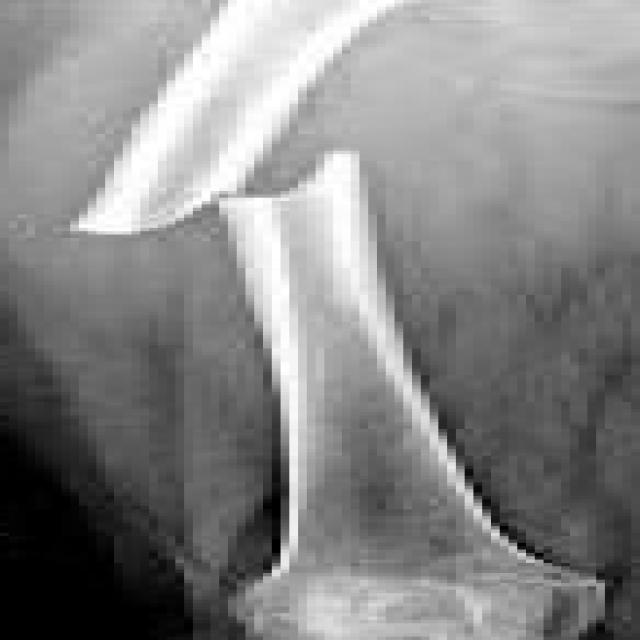Broken: (223, 150, 533, 574), (70, 1, 415, 234)
